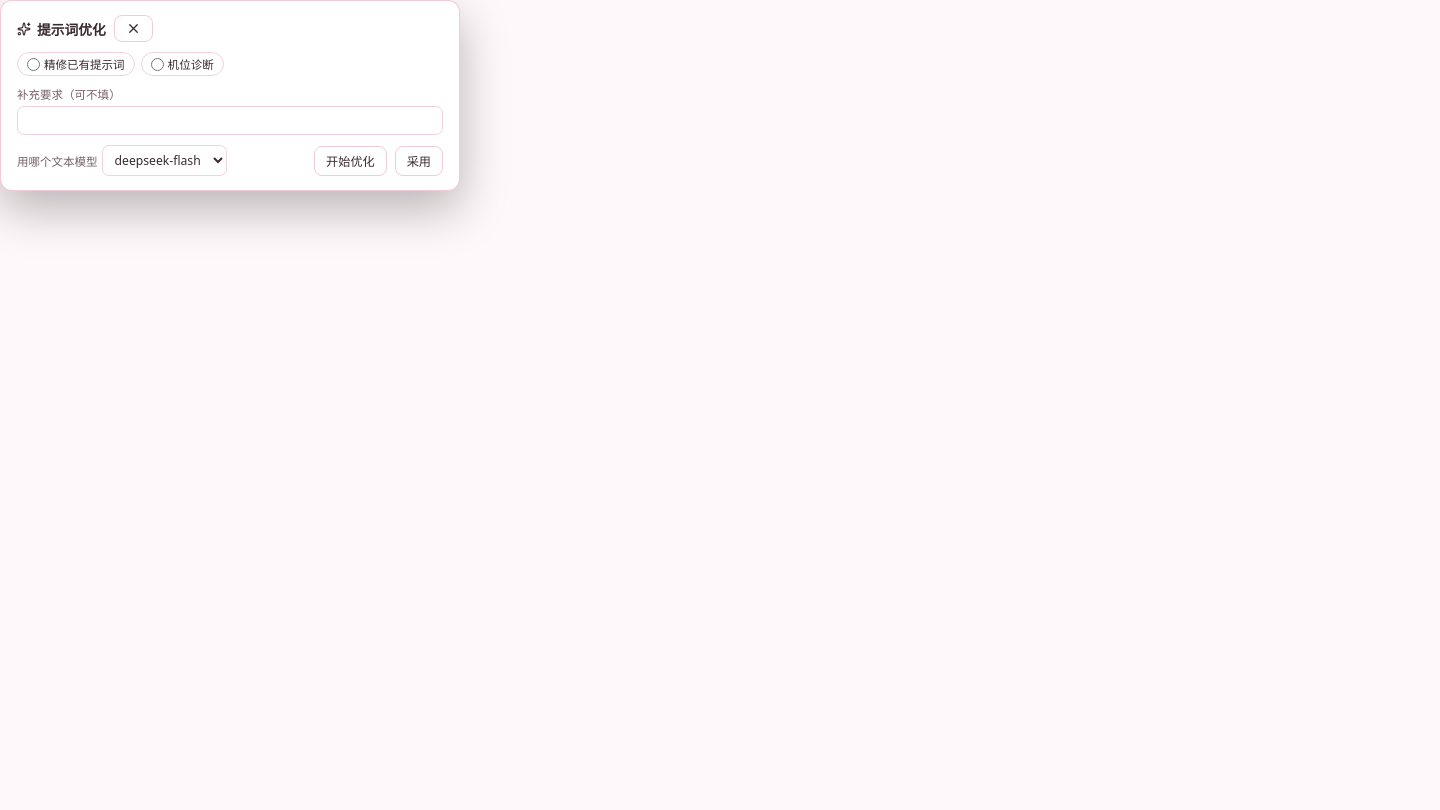
Test case: camera diagnosis in the prompt optimizer › says so when the four checks find nothing
Click the radio button labelled "机位诊断". click: [157, 64]
box: [151, 58, 164, 70]
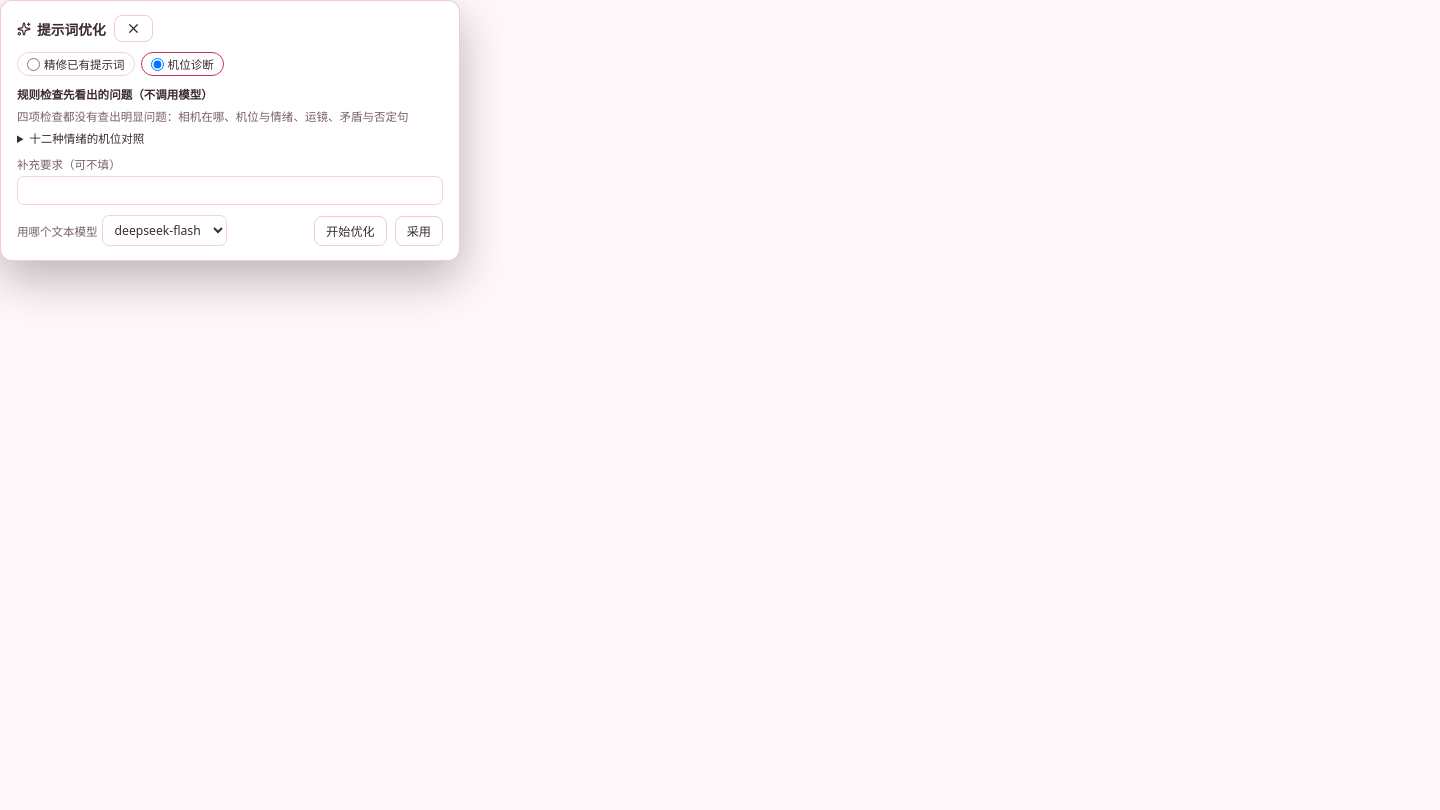
Now the text "四项检查都没有查出明显问题：相机在哪、机位与情绪、运镜、矛盾与否定句" is shown, box [17, 108, 443, 124]
